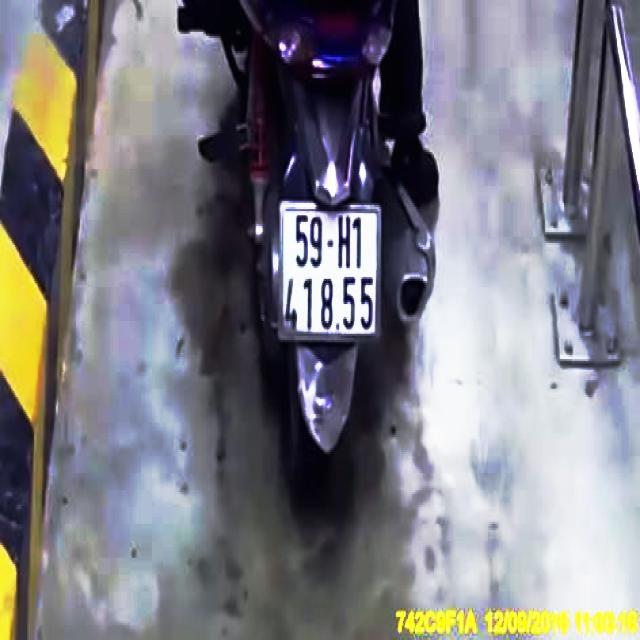license_plate: (281, 202, 382, 345)
